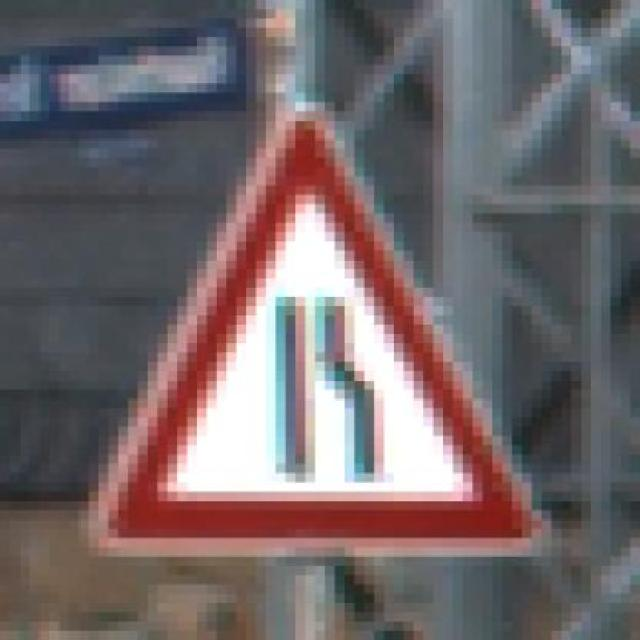-Road narrows on right: (69, 102, 562, 566)
